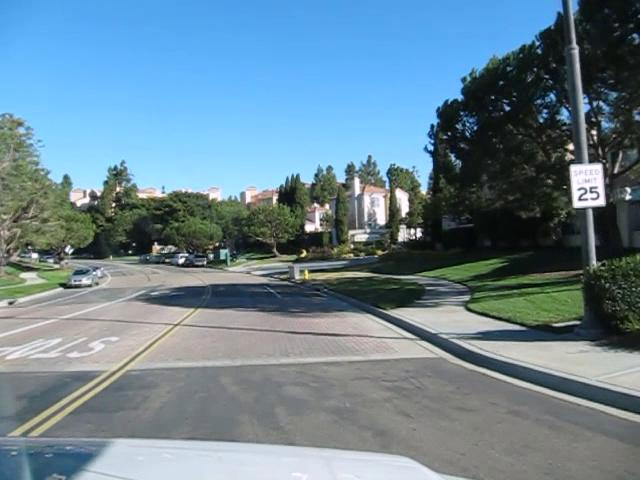speedLimit25: (569, 161, 606, 209)
